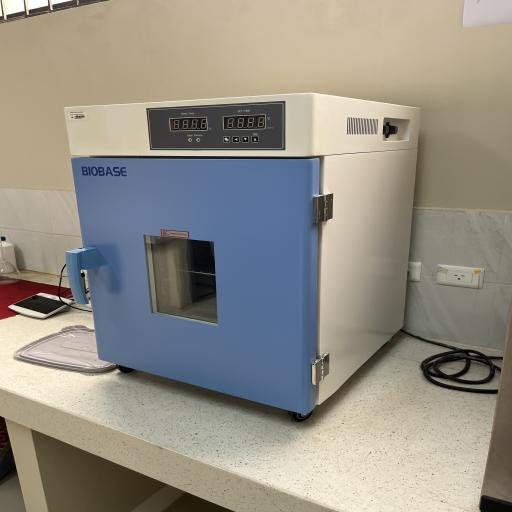Horno_Secado_Biobase: (52, 88, 444, 426)
